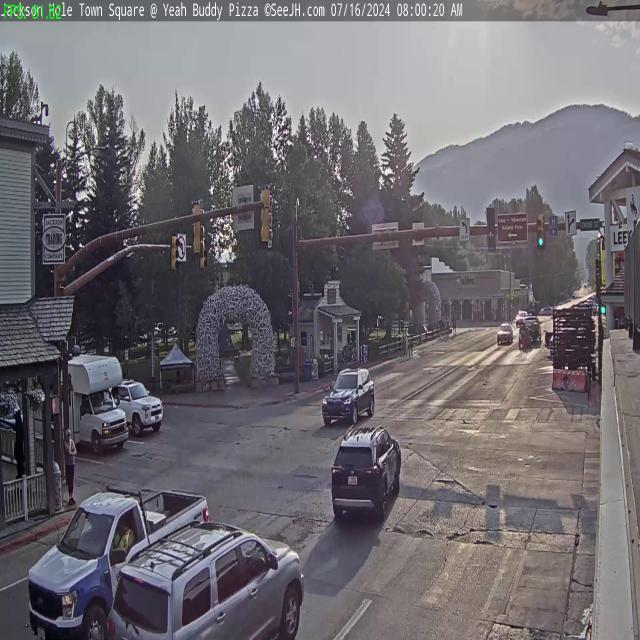person: (62, 437, 80, 505)
pickup: (28, 468, 198, 622)
sedan: (494, 321, 514, 344)
suv: (95, 516, 306, 640), (330, 427, 404, 521), (320, 365, 375, 426), (110, 380, 163, 437)
traffic light: (190, 198, 203, 258), (260, 183, 272, 244), (486, 207, 496, 250), (170, 233, 180, 272), (536, 214, 546, 248)
truck: (59, 356, 126, 456)
